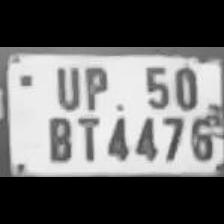0: (168, 62, 200, 108)
4: (101, 109, 131, 163), (130, 110, 158, 162)
5: (138, 62, 172, 108)
6: (184, 110, 218, 164)
7: (157, 110, 185, 164)
B: (44, 112, 74, 162)
P: (78, 62, 110, 112)
T: (74, 112, 102, 162)
U: (50, 60, 80, 110)
